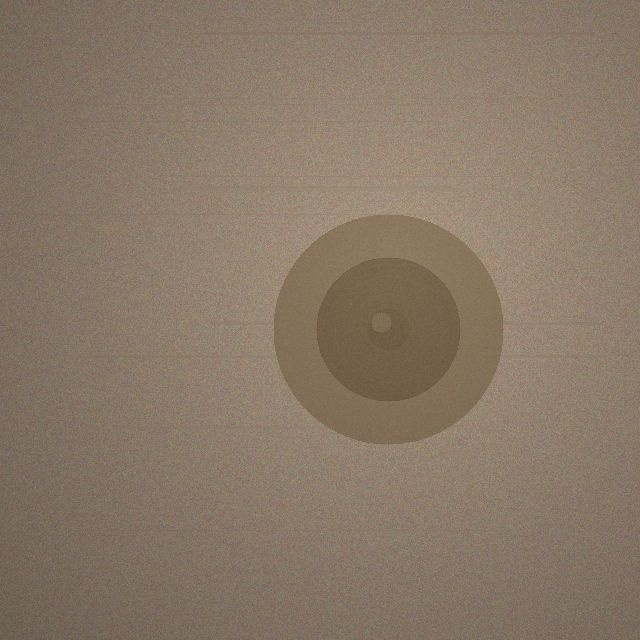good: (273, 214, 503, 444)
